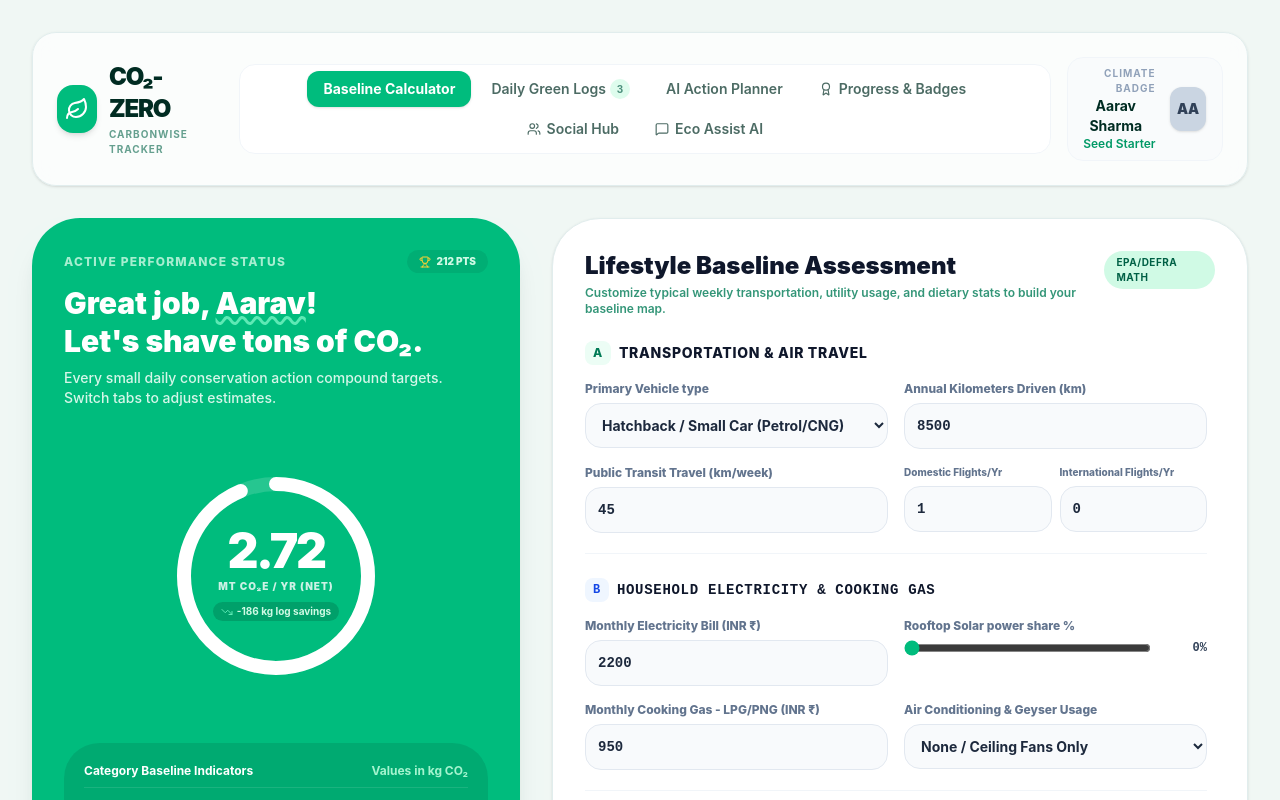
Scenario: App › switches to Progress & Badges tab
The image size is (1280, 800).
Click the tab "Progress & Badges".
click(892, 89)  # box [803,71,982,107]
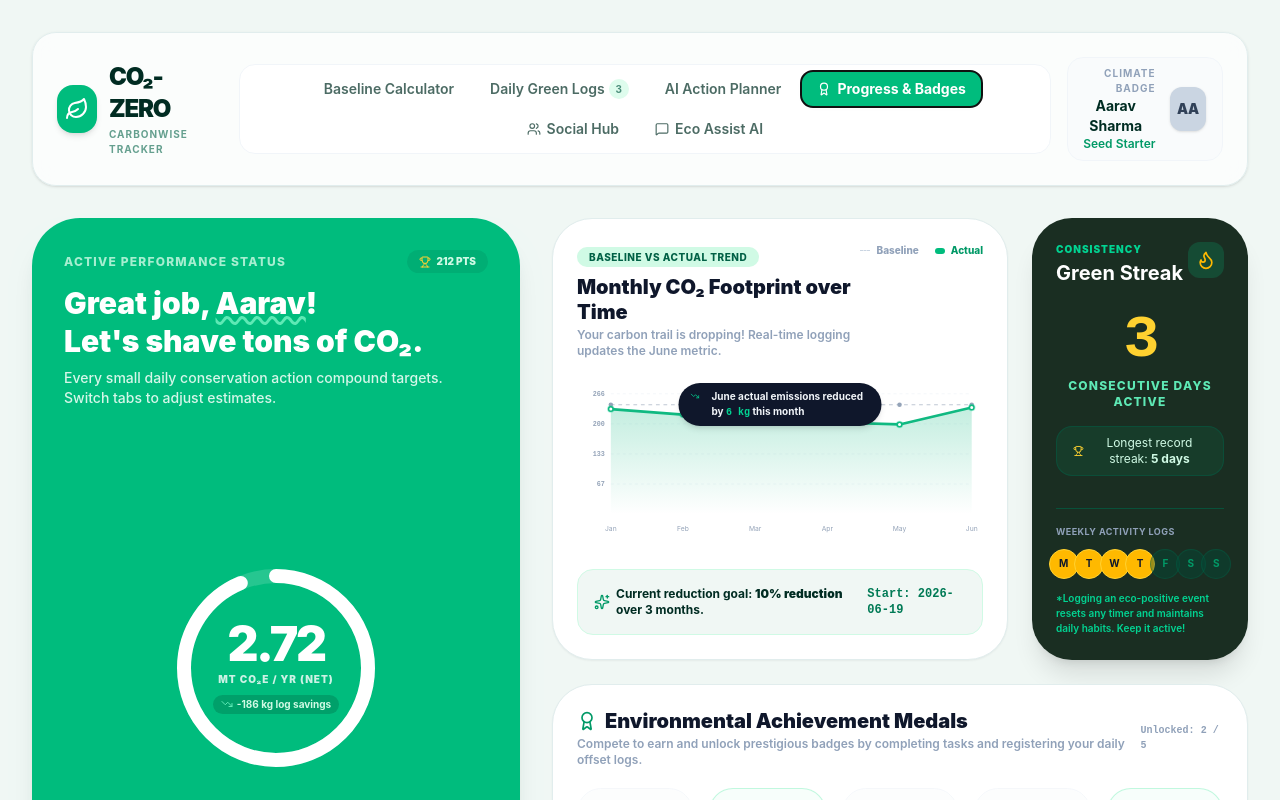
Result: the heading "Environmental Achievement Medals" is shown at [577,708,968,732]
